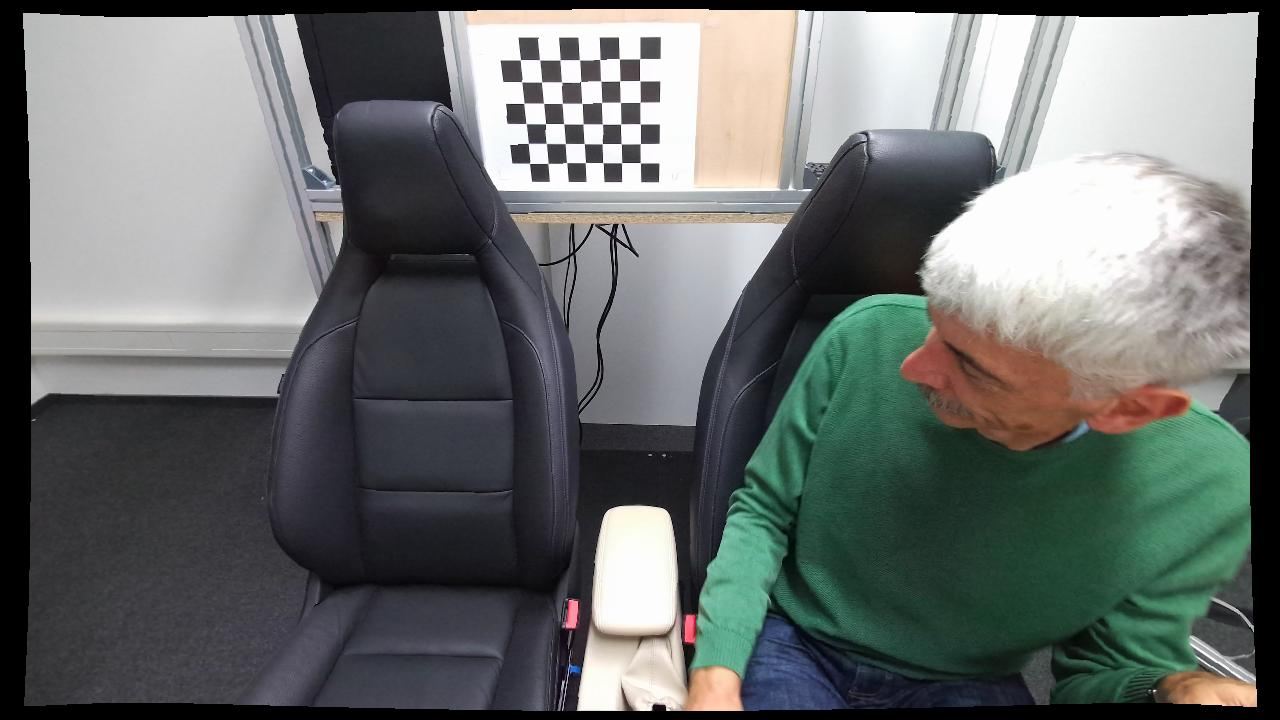Distracted: (673, 151, 1252, 714)
